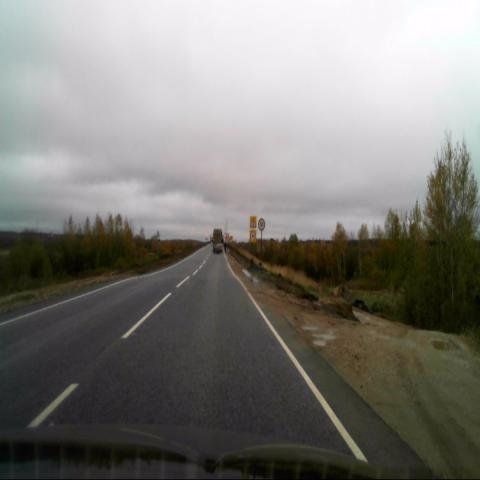1_8: (250, 215, 256, 228)
3_24: (258, 218, 265, 231), (250, 230, 256, 241)
